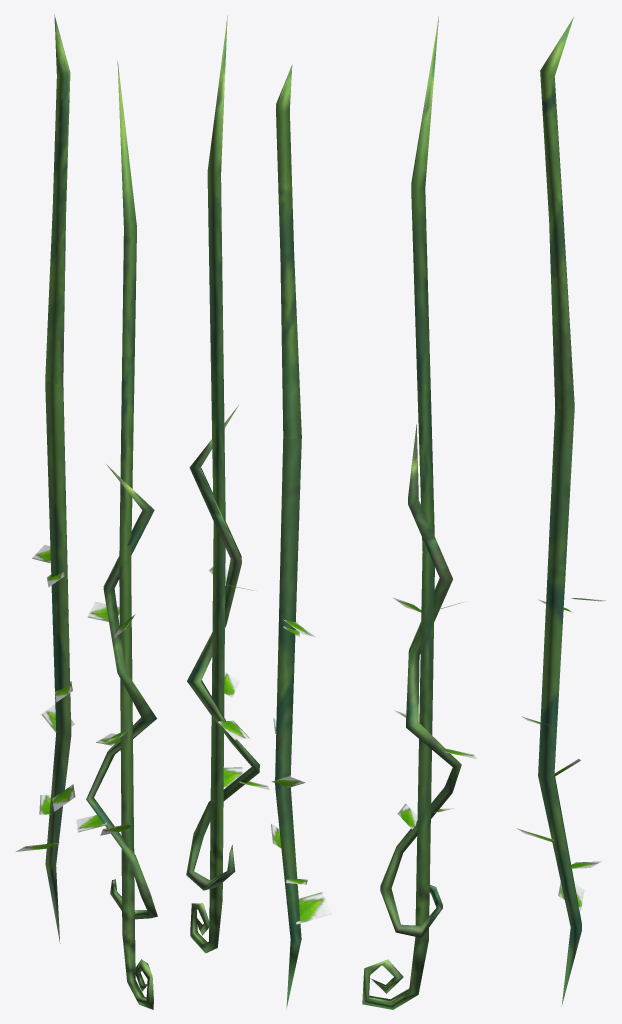
The model's file is rattan01.FBX.
The picture shows the model from 3 angles, left to right: view 1: azimuth 30°, elevation 25°; view 2: azimuth 210°, elevation 25°; view 3: azimuth 270°, elevation 25°; orthographic projection. The views are drawn at different scales.
Visible parts, largest first — view 1: rattan; view 2: rattan; view 3: rattan.
Boxes of the visible parts, <box> form: rattan: <box>15,14,157,1009</box>; rattan: <box>186,15,332,1009</box>; rattan: <box>362,16,605,1009</box>.
Bounding box in the file's own units: 4.28 × 12.82 × 57.4.
